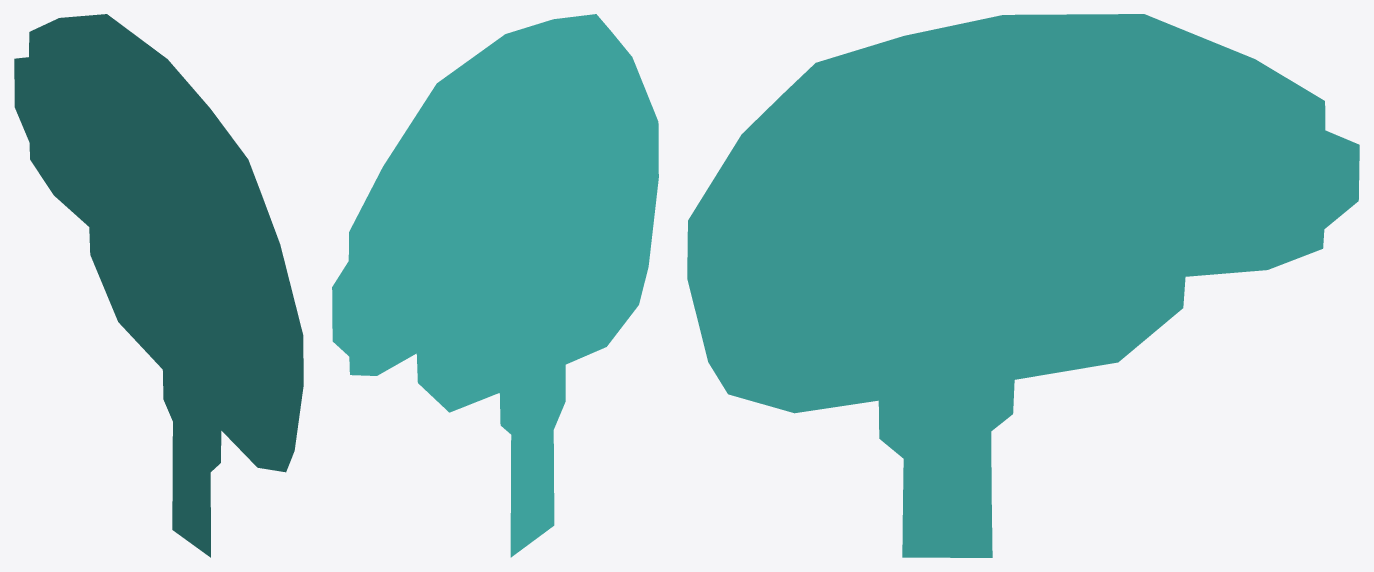
The model's file is Brain.glb.
The picture shows the model from 3 angles, left to right: view 1: azimuth 30°, elevation 25°; view 2: azimuth 150°, elevation 25°; view 3: azimuth 270°, elevation 25°; orthographic projection. The views are drawn at different scales.
Visible parts, largest first — view 1: Plane; view 2: Plane; view 3: Plane.
Boxes of the visible parts, x1,y1,x2,y2 form: Plane: [14, 14, 303, 557]; Plane: [332, 14, 658, 557]; Plane: [687, 14, 1359, 557].
Size of the model in its own units: 1.3e-07 by 2.7 by 3.03.
